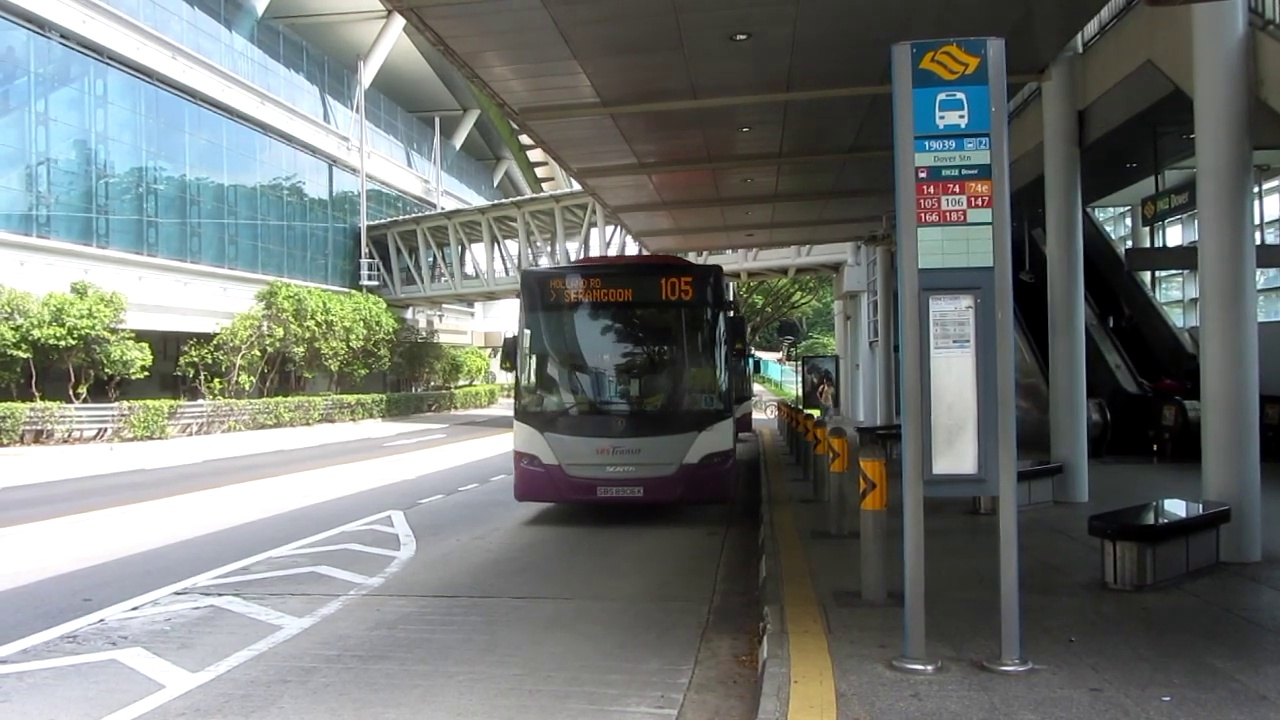bus panel: (545, 275, 698, 304)
